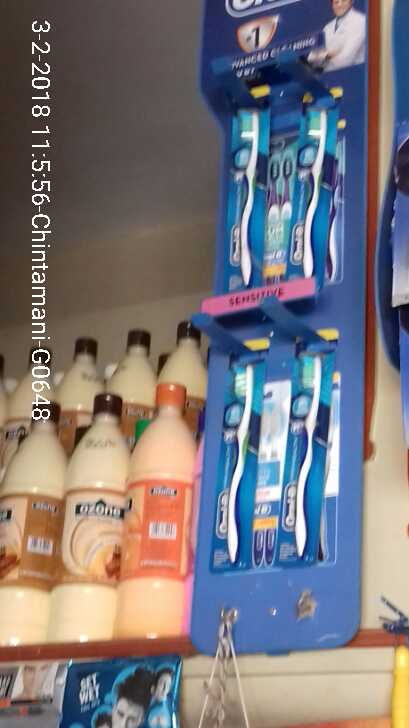oralb: (218, 353, 260, 568), (287, 104, 339, 275), (215, 111, 264, 287), (291, 349, 319, 557)
